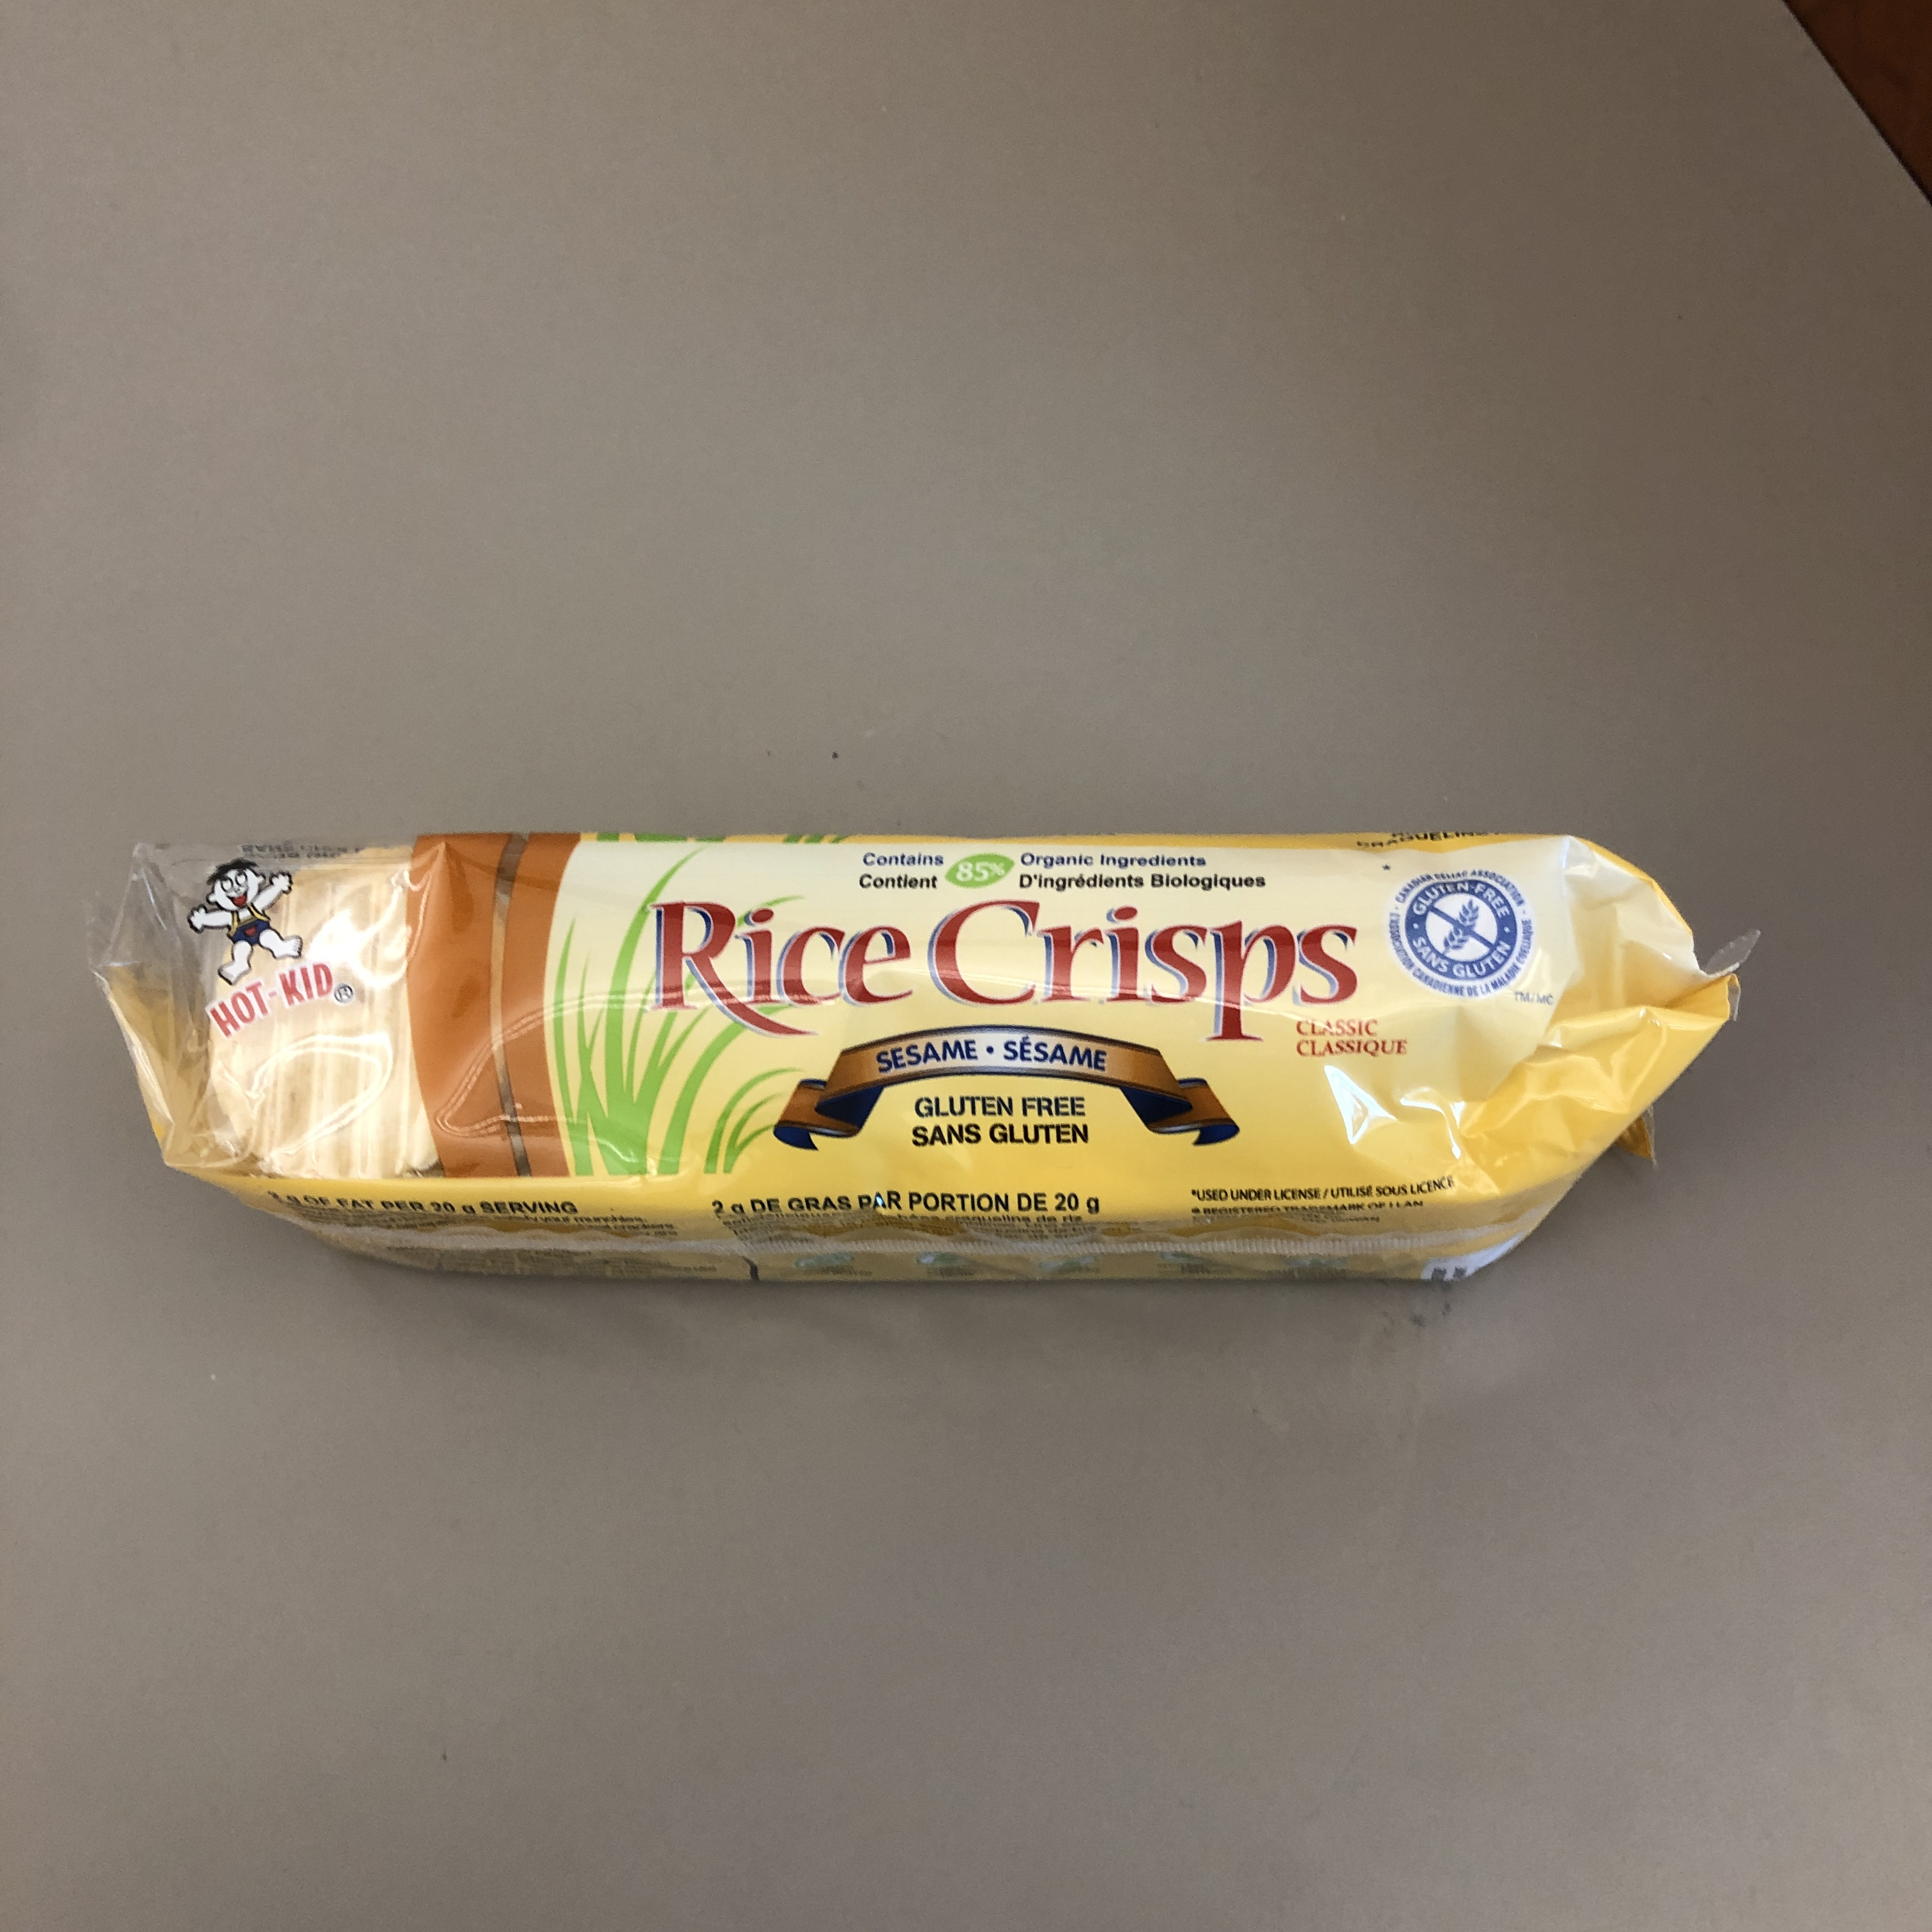hot_kid_rice_crisps_sesame: (816, 222, 1253, 1733)
